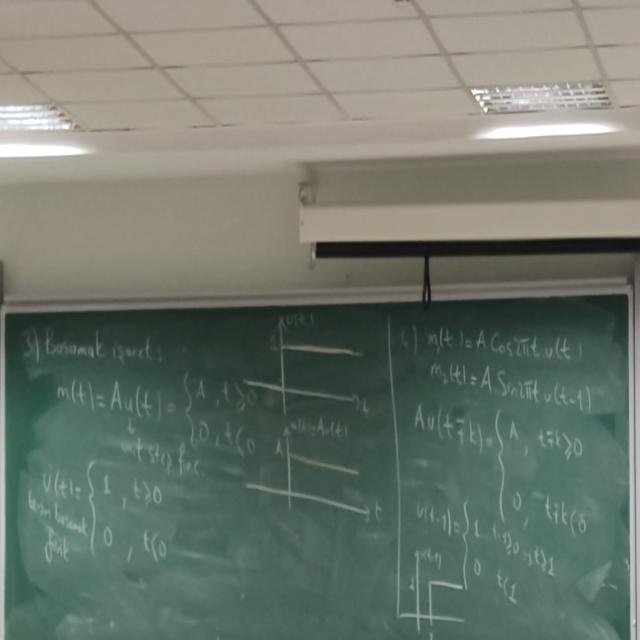image: (249, 418, 378, 527), (249, 310, 373, 414), (398, 537, 477, 630)
math: (408, 399, 592, 548), (32, 462, 183, 588), (47, 366, 257, 455), (420, 312, 596, 418)
text: (45, 322, 161, 363)
